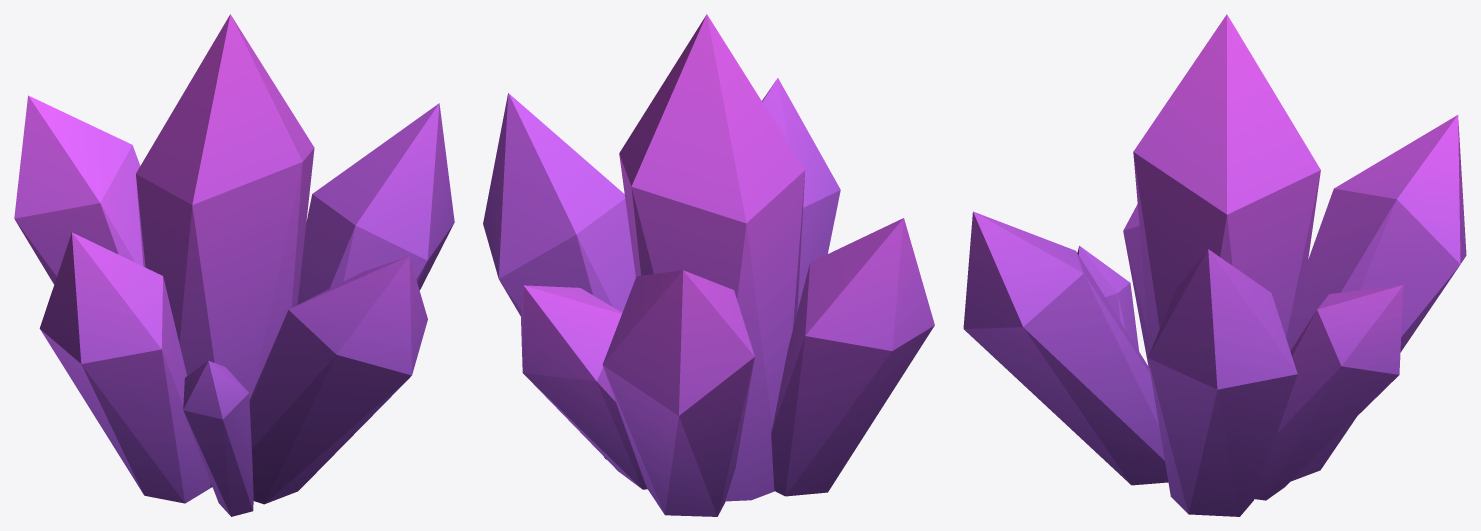
Rendered from Crystal_purple_02.fbx.
The picture shows the model from 3 angles, left to right: view 1: azimuth 30°, elevation 25°; view 2: azimuth 150°, elevation 25°; view 3: azimuth 270°, elevation 25°; orthographic projection. The views are drawn at different scales.
Visible parts, largest first — view 1: Crystal_purple_02; view 2: Crystal_purple_02; view 3: Crystal_purple_02.
Boxes of the visible parts, x1=… form: Crystal_purple_02: x1=14, y1=14, x2=454, y2=516; Crystal_purple_02: x1=483, y1=14, x2=934, y2=516; Crystal_purple_02: x1=963, y1=14, x2=1466, y2=516.
Bounding box in the file's own units: 169 × 181 × 177.
